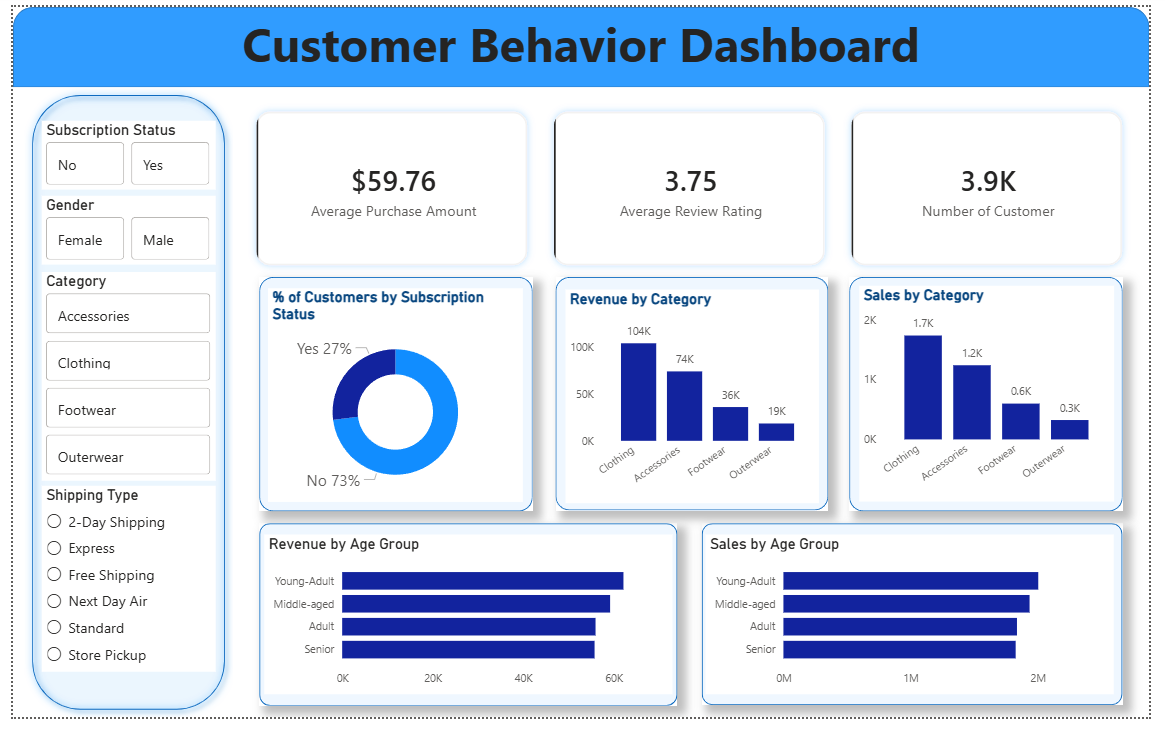

The page's visual inventory and layout, read from the dashboard file:
{"tool":"powerbi","page":{"name":"Page 1","canvas":[1280,800],"ordinal":0},"visuals":[{"type":"cardVisual","fields":{"Data":["customers.Average Purchase Amount","customers.Average Review Rating","customers.Number of Customer"]},"box":[247,90.5,1033.3,229.9],"z":0},{"type":"shape","box":[0,0,1280.3,90.5],"z":1000},{"type":"textbox","box":[0,0,1280.3,90.5],"z":2000},{"type":"shape","box":[278.1,304,308.2,264.1],"z":3000},{"type":"donutChart","title":" % of Customers by Subscription Status","fields":{"Category":["customers.subscription_status"],"Y":["CountNonNull(customers.customer_id)"]},"box":[287.9,316.2,287.4,240.9],"z":4000},{"type":"shape","box":[610.9,303.7,307.5,263],"z":5000},{"type":"clusteredColumnChart","title":"Revenue by Category","fields":{"Y":["Sum(customers.purchase_amount)"],"Category":["customers.category"]},"box":[622.1,317.7,285.2,240.7],"z":6000},{"type":"shape","box":[942.1,304,308.2,264.1],"z":7000},{"type":"clusteredColumnChart","title":"Sales by Category","fields":{"Category":["customers.category"],"Y":["CountNonNull(customers.customer_id)"]},"box":[953.1,313.8,287.4,243.3],"z":8000},{"type":"shape","box":[12.2,89.7,235.1,710.6],"z":9000},{"type":"advancedSlicerVisual","title":"Subscription Status","fields":{"Values":["customers.subscription_status"]},"box":[32.6,127.7,195.7,77.4],"z":10000},{"type":"advancedSlicerVisual","title":"Gender","fields":{"Values":["customers.gender"]},"box":[32.6,213.3,195.7,77.4],"z":11000},{"type":"advancedSlicerVisual","title":"Category","fields":{"Values":["customers.category"]},"box":[31.9,298.2,195.8,234.9],"z":12000},{"type":"listSlicer","title":"Shipping Type","fields":{"Values":["customers.shipping_type"]},"box":[31.9,539.8,195.8,209.6],"z":13000},{"type":"shape","box":[277.9,581.7,471.2,205.8],"z":14000},{"type":"clusteredBarChart","title":"Revenue by Age Group","fields":{"Y":["Sum(customers.purchase_amount)"],"Category":["customers.age_group"]},"box":[283.8,593.8,460,180],"z":15000},{"type":"shape","box":[776,581.7,474,204.8],"z":15001},{"type":"clusteredBarChart","title":"Sales by Age Group","fields":{"Category":["customers.age_group"],"Y":["Sum(customers.customer_id)"]},"box":[780,593.8,460,180],"z":15002}]}

Visuals, with their boxes in screenshot pixels (x1, y1, x2, y2), scaled from the page's 1280x800 canvas onto the 1165x730 screenshot:
cardVisual - customers.Average Purchase Amount x customers.Average Review Rating: {"left": 225, "top": 83, "right": 1164, "bottom": 292}
shape: {"left": 0, "top": 0, "right": 1164, "bottom": 83}
textbox: {"left": 0, "top": 0, "right": 1164, "bottom": 83}
shape: {"left": 253, "top": 277, "right": 534, "bottom": 518}
" % of Customers by Subscription Status" donutChart: {"left": 262, "top": 289, "right": 524, "bottom": 508}
shape: {"left": 556, "top": 277, "right": 836, "bottom": 517}
"Revenue by Category" clusteredColumnChart: {"left": 566, "top": 290, "right": 826, "bottom": 510}
shape: {"left": 857, "top": 277, "right": 1138, "bottom": 518}
"Sales by Category" clusteredColumnChart: {"left": 867, "top": 286, "right": 1129, "bottom": 508}
shape: {"left": 11, "top": 82, "right": 225, "bottom": 729}
"Subscription Status" advancedSlicerVisual: {"left": 30, "top": 117, "right": 208, "bottom": 187}
"Gender" advancedSlicerVisual: {"left": 30, "top": 195, "right": 208, "bottom": 265}
"Category" advancedSlicerVisual: {"left": 29, "top": 272, "right": 207, "bottom": 486}
"Shipping Type" listSlicer: {"left": 29, "top": 493, "right": 207, "bottom": 684}
shape: {"left": 253, "top": 531, "right": 682, "bottom": 719}
"Revenue by Age Group" clusteredBarChart: {"left": 258, "top": 542, "right": 677, "bottom": 706}
shape: {"left": 706, "top": 531, "right": 1138, "bottom": 718}
"Sales by Age Group" clusteredBarChart: {"left": 710, "top": 542, "right": 1129, "bottom": 706}
